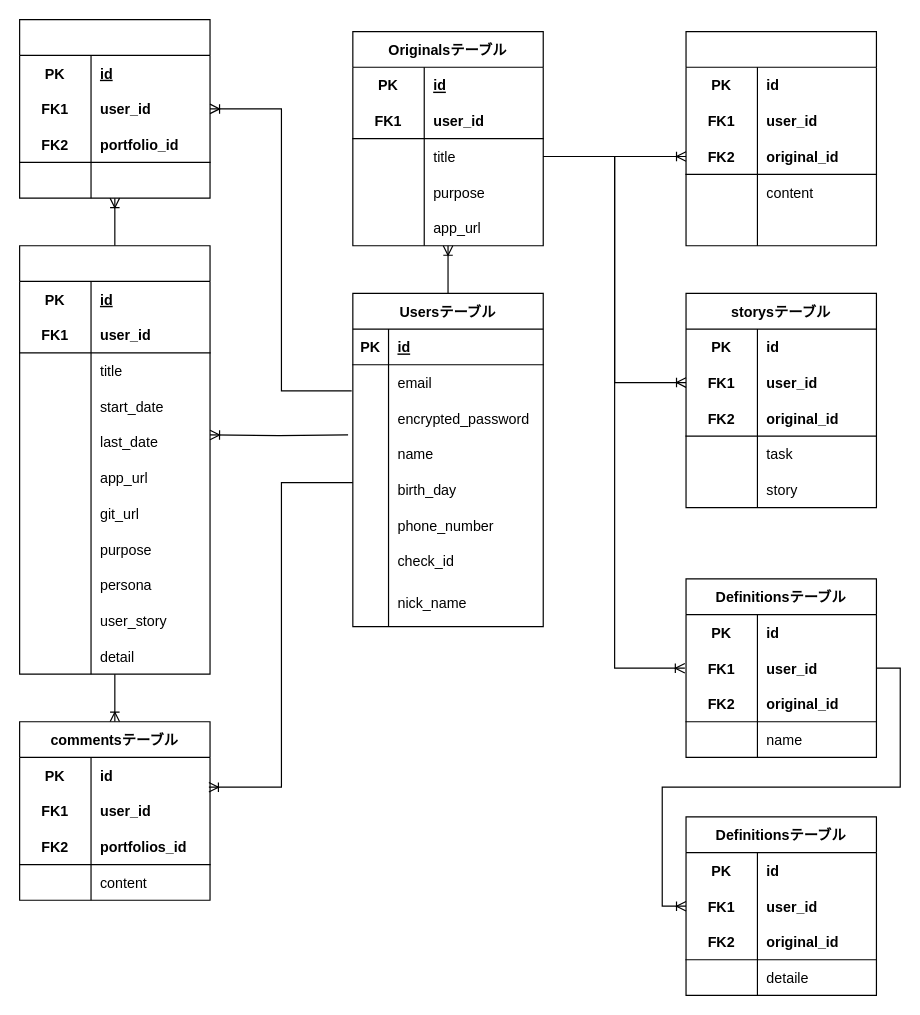
Some shapes in this 920 by 1015 pixel diagram are drawn without their labels. The shapes that lost their labels are listed below. From the top down, each one's box as (x1, y1, x2, y2) in pixels, then its label:
(18, 18, 210, 198): likesテーブル
(685, 30, 876, 246): Personasテーブル
(18, 245, 210, 674): Portfoliosテーブル
